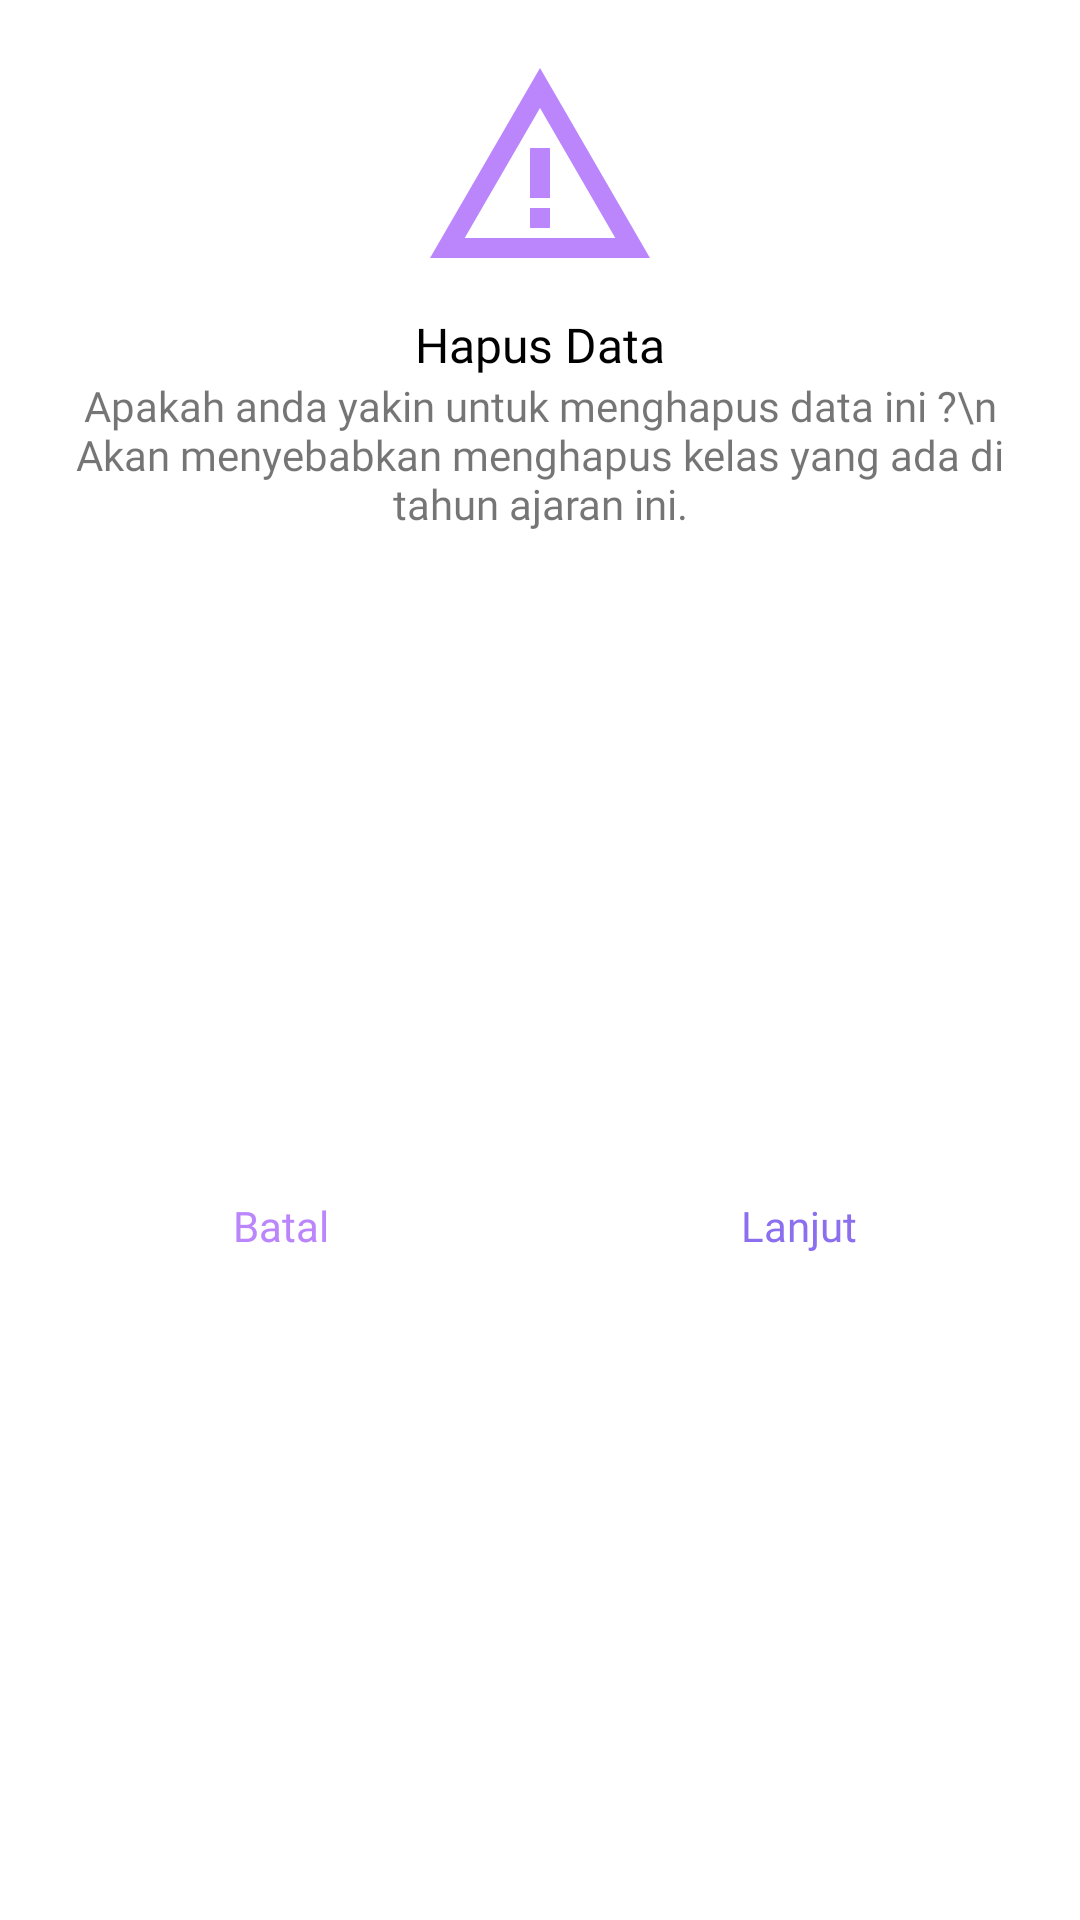

Locate icon controls on the screen. Image size 1080x1920, boxes as (x1, y1, x2, y2).
warning: (430, 68, 650, 258)
